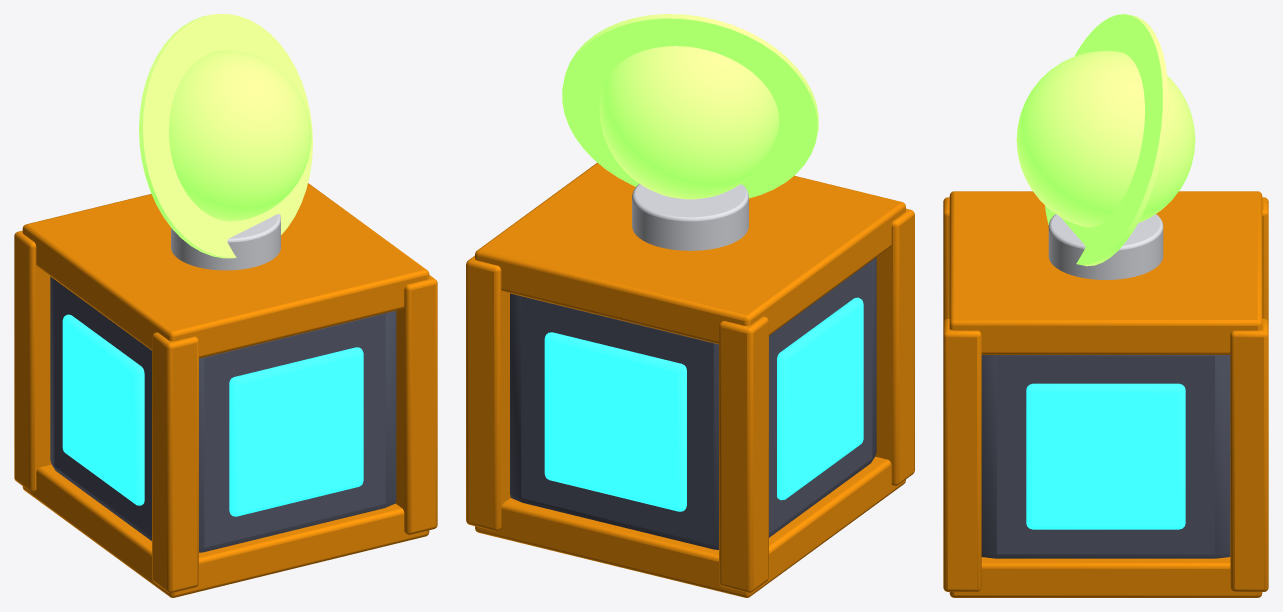
The model's file is core.glb.
3 renders of one model, left to right at view 1: azimuth 30°, elevation 25°; view 2: azimuth 150°, elevation 25°; view 3: azimuth 270°, elevation 25°, orthographic. The views are drawn at different scales.
Visible parts, largest first — view 1: Cube.002, Cube, Sphere, Cube.007, Cylinder.001, Cube.001, Cube.003, Cube.008, Cube.005, Cube.004, Cylinder; view 2: Cube.002, Cube, Sphere, Cube.009, Cylinder.001, Cube.001, Cube.004, Cube.008, Cube.006, Cube.003, Cylinder; view 3: Cube.002, Cube, Cube.010, Sphere, Cube.001, Cube.005, Cube.006, Cylinder.001, Cylinder, Cube.003, Cube.004.
Boxes of the visible parts, box(x1,y1,x2,y2) form: Cube.002: box(22, 183, 429, 358); Cube: box(50, 276, 396, 552); Sphere: box(168, 50, 311, 221); Cube.007: box(229, 347, 363, 516); Cylinder.001: box(139, 14, 312, 258); Cube.001: box(22, 464, 429, 597); Cube.003: box(152, 332, 198, 593); Cube.008: box(62, 314, 144, 505); Cube.005: box(395, 275, 437, 534); Cube.004: box(14, 230, 51, 492); Cylinder: box(171, 214, 280, 270); Cube.002: box(475, 162, 905, 344); Cube: box(510, 257, 876, 549); Sphere: box(599, 46, 779, 199); Cube.009: box(544, 332, 686, 511); Cylinder.001: box(562, 14, 818, 198); Cube.001: box(475, 456, 905, 597); Cube.004: box(719, 316, 768, 592); Cube.008: box(777, 297, 863, 500); Cube.006: box(466, 255, 510, 531); Cube.003: box(875, 208, 914, 485); Cylinder: box(632, 183, 748, 250); Cube.002: box(949, 191, 1262, 354); Cube: box(981, 355, 1230, 558); Cube.010: box(1026, 383, 1185, 529); Sphere: box(1016, 51, 1195, 227); Cube.001: box(949, 557, 1262, 597); Cube.005: box(943, 318, 981, 591); Cube.006: box(1230, 318, 1268, 591); Cylinder.001: box(1045, 14, 1168, 266); Cylinder: box(1048, 214, 1163, 279); Cube.003: box(943, 197, 949, 321); Cube.004: box(1262, 197, 1268, 321).
Size of the model in its own units: 1.02 by 1.74 by 1.02.
